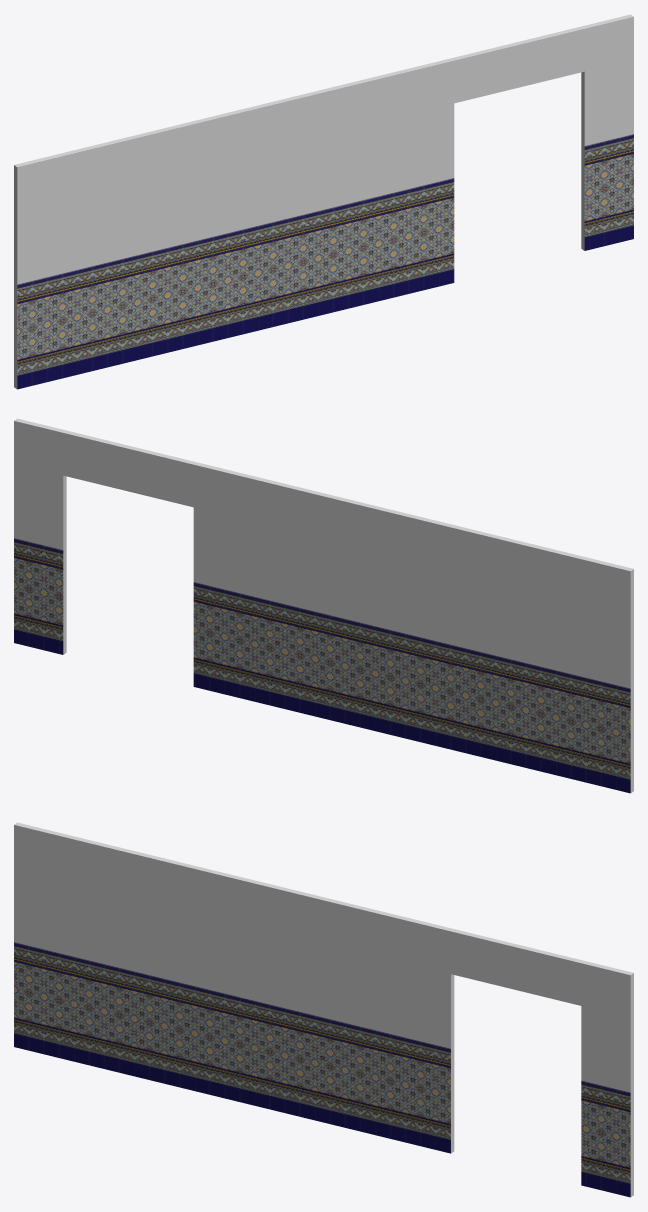
Rendered from Wall 3.fbx.
3 views of the same model, one above another, from view 1: azimuth 30°, elevation 25°; view 2: azimuth 150°, elevation 25°; view 3: azimuth 330°, elevation 25° (orthographic).
Parts seen in each view (by area): view 1: Wall 3; view 2: Wall 3; view 3: Wall 3.
Part boxes in pixels (x1=…): Wall 3: x1=14, y1=14, x2=633, y2=389; Wall 3: x1=14, y1=418, x2=633, y2=793; Wall 3: x1=14, y1=822, x2=633, y2=1197.
Bounding box in the file's own units: 802 × 276 × 7.37.
2 materials, 2 textured.
